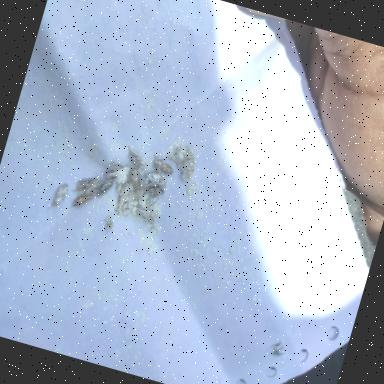pbw: (72, 171, 102, 199), (140, 169, 168, 196), (123, 145, 152, 170), (69, 186, 96, 212), (150, 154, 180, 177), (94, 173, 118, 201), (125, 166, 146, 195), (50, 180, 70, 210), (142, 182, 167, 202), (182, 147, 200, 173), (134, 208, 158, 224), (116, 186, 128, 210), (110, 161, 126, 174)
